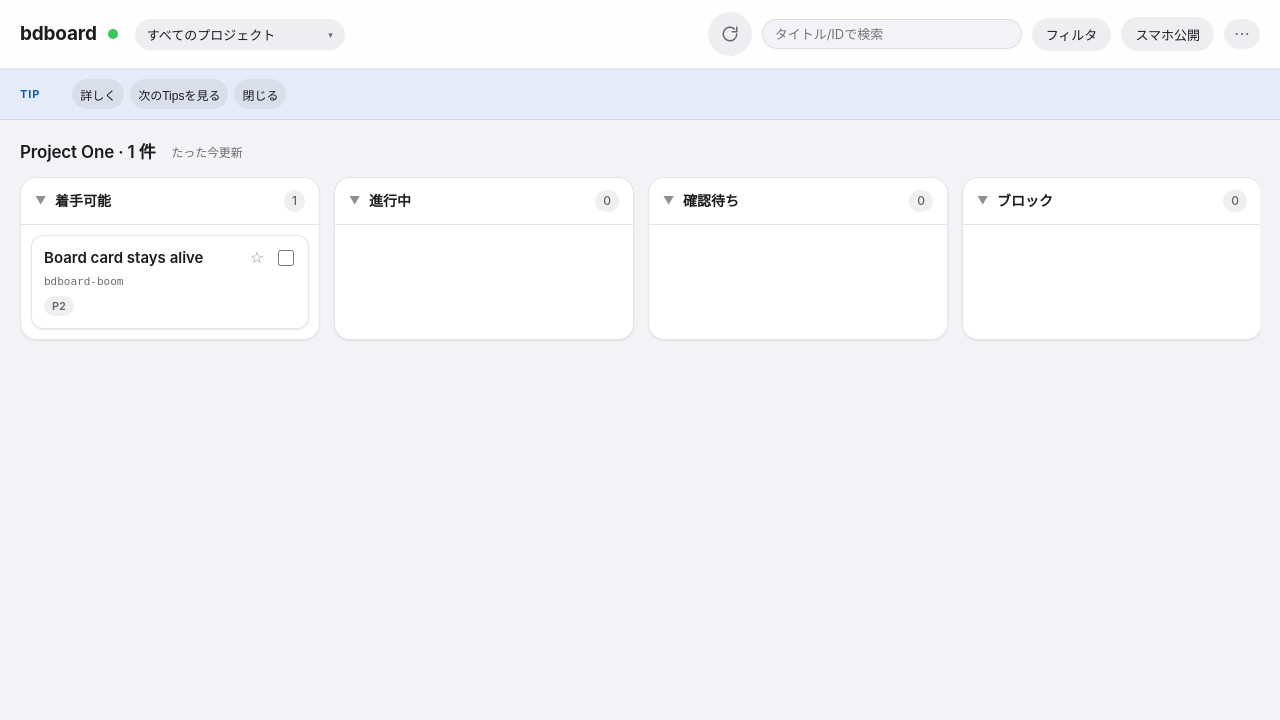
Scenario: App error boundaries (bdboard-yfq) › keeps the board usable when the ticket detail panel throws
The width and height of the screenshot is (1280, 720).
Click the option titled "Board card stays alive". click: (124, 257)
box: [31,235,309,329]
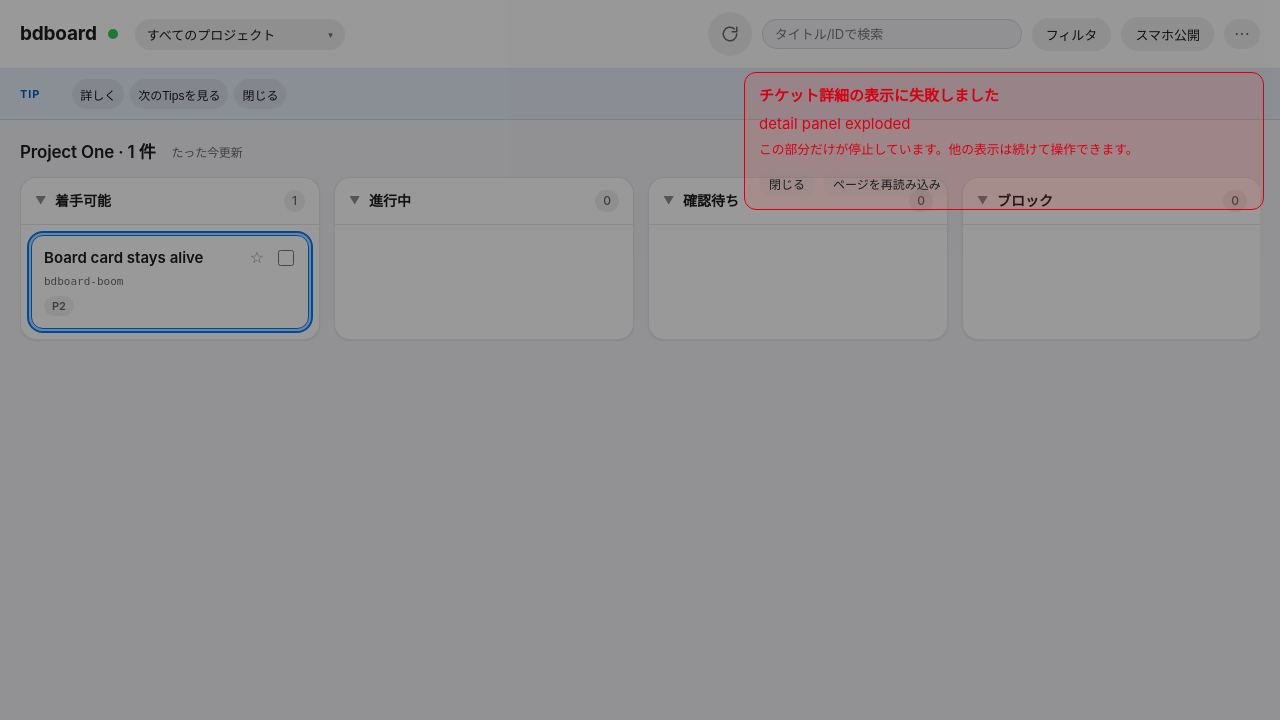
Check: the button named "その他のメニュー" is shown, box [1224,19,1260,49]
Check: the message shows "チケット詳細の表示に失敗しました", box [744,72,1264,210]
